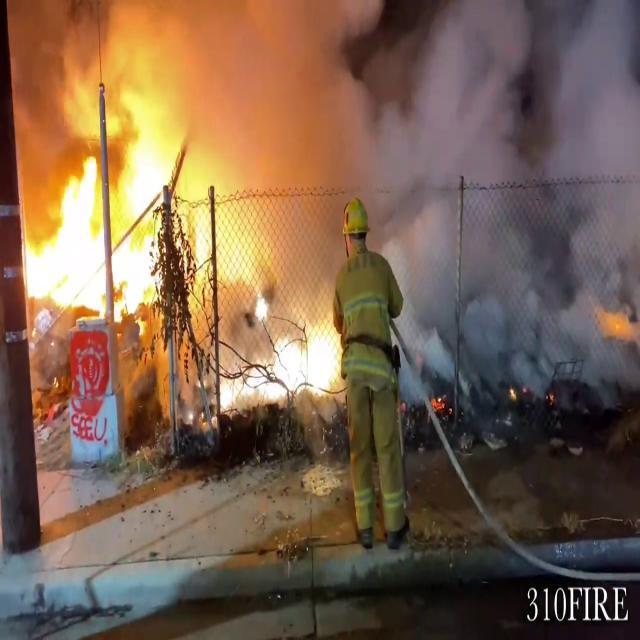Fire: (22, 21, 212, 327), (268, 304, 352, 404)
Smoke: (161, 0, 640, 380)
